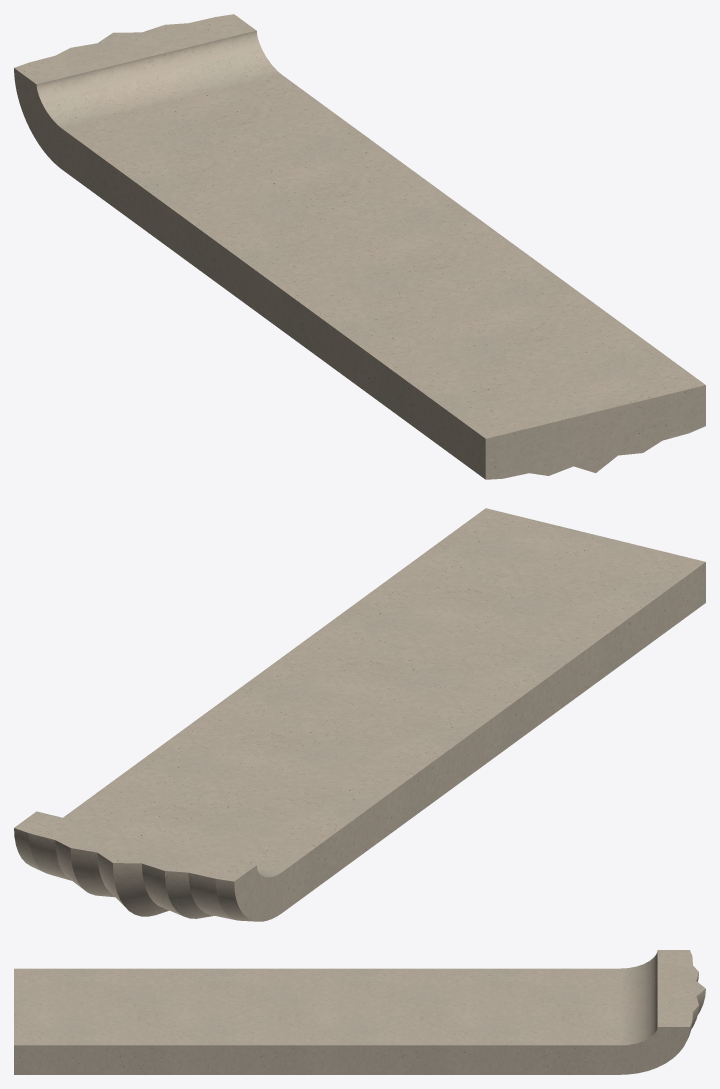
3 views of the same model, one above another, from view 1: azimuth 30°, elevation 25°; view 2: azimuth 150°, elevation 25°; view 3: azimuth 270°, elevation 25° (orthographic). The views are drawn at different scales.
Parts seen in each view (by area): view 1: B5.SLDPRT; view 2: B5.SLDPRT; view 3: B5.SLDPRT.
Boxes of the visible parts, x1,y1,x2,y2 form: B5.SLDPRT: [14, 14, 705, 479]; B5.SLDPRT: [14, 508, 705, 921]; B5.SLDPRT: [14, 950, 705, 1074].
Bounding box in the file's own units: 0.225 × 0.0848 × 0.8548.
Materials: 1 (1 with a texture image).
